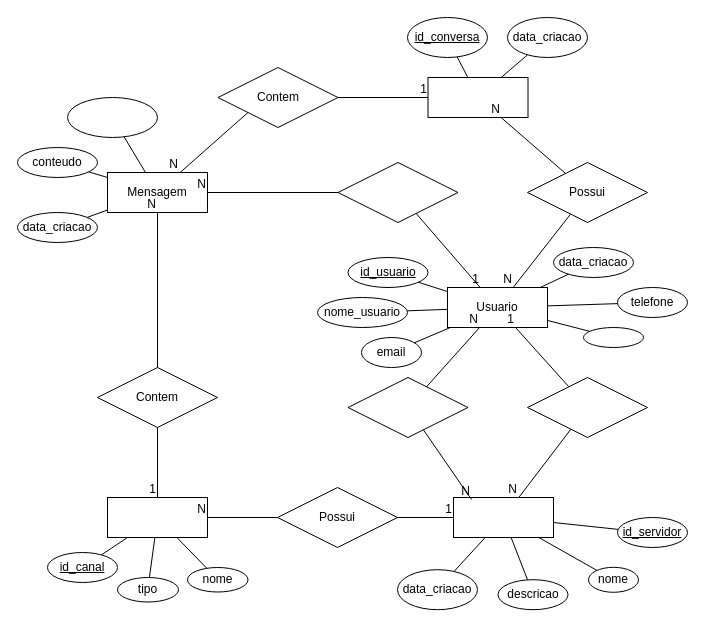
Some shapes in this 705 by 628 pixel diagram are drawn without their labels. Here are the shapes that lost their labels. From the top down, the box of each, then its label:
(66, 96, 158, 138): id_mensagem
(427, 76, 528, 118): Conversa
(337, 162, 458, 222): Envia
(582, 326, 644, 348): senha
(347, 376, 468, 438): Participa de
(526, 376, 648, 438): Cria
(106, 496, 208, 538): Canal
(452, 496, 554, 538): Servidor
